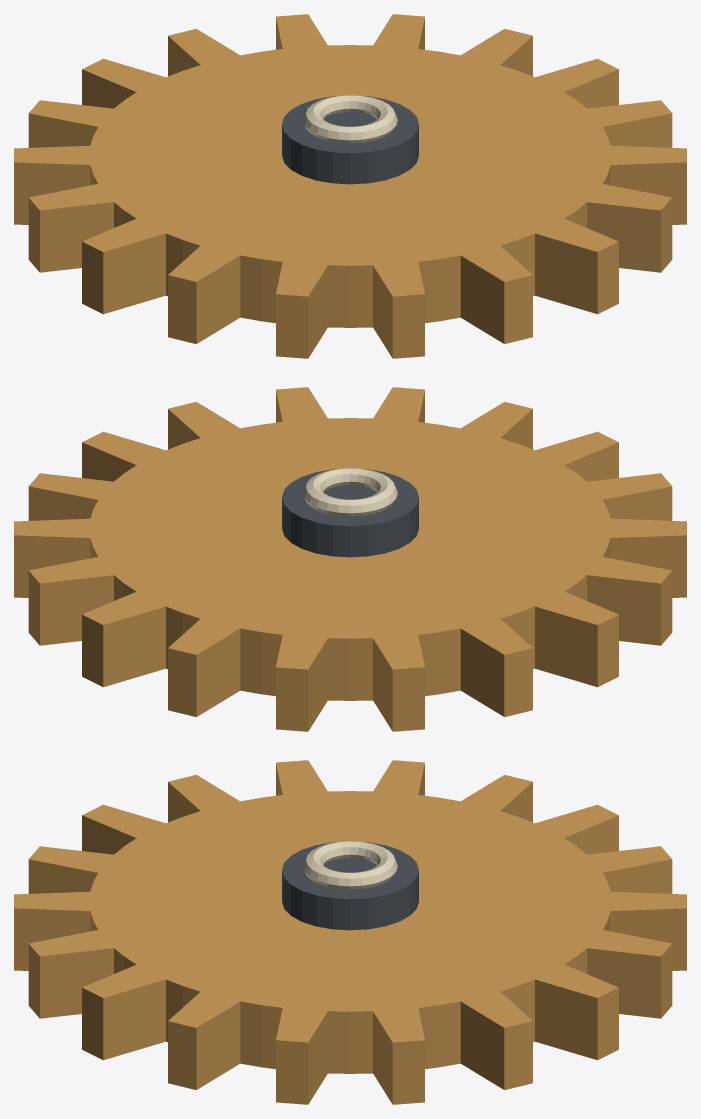
File: pump-drive.glb
3 renders of one model, top to bottom at view 1: azimuth 30°, elevation 25°; view 2: azimuth 150°, elevation 25°; view 3: azimuth 270°, elevation 25°, orthographic.
Parts seen in each view (by area): view 1: teeth.001, teeth, hub.001, hub_ring.001; view 2: teeth.001, teeth, hub.001, hub_ring.001; view 3: teeth.001, teeth, hub.001, hub_ring.001.
Boxes of the visible parts, bbox=[...] form: teeth.001: bbox=[14, 14, 686, 358]; teeth: bbox=[122, 58, 567, 252]; hub.001: bbox=[282, 96, 418, 184]; hub_ring.001: bbox=[303, 95, 397, 143]; teeth.001: bbox=[14, 387, 686, 731]; teeth: bbox=[132, 431, 578, 625]; hub.001: bbox=[282, 469, 418, 557]; hub_ring.001: bbox=[303, 468, 397, 516]; teeth.001: bbox=[14, 760, 686, 1104]; teeth: bbox=[124, 804, 577, 998]; hub.001: bbox=[282, 842, 418, 930]; hub_ring.001: bbox=[303, 841, 397, 889].
Bounding box in the file's own units: 0.5357 × 0.094 × 0.5394.
